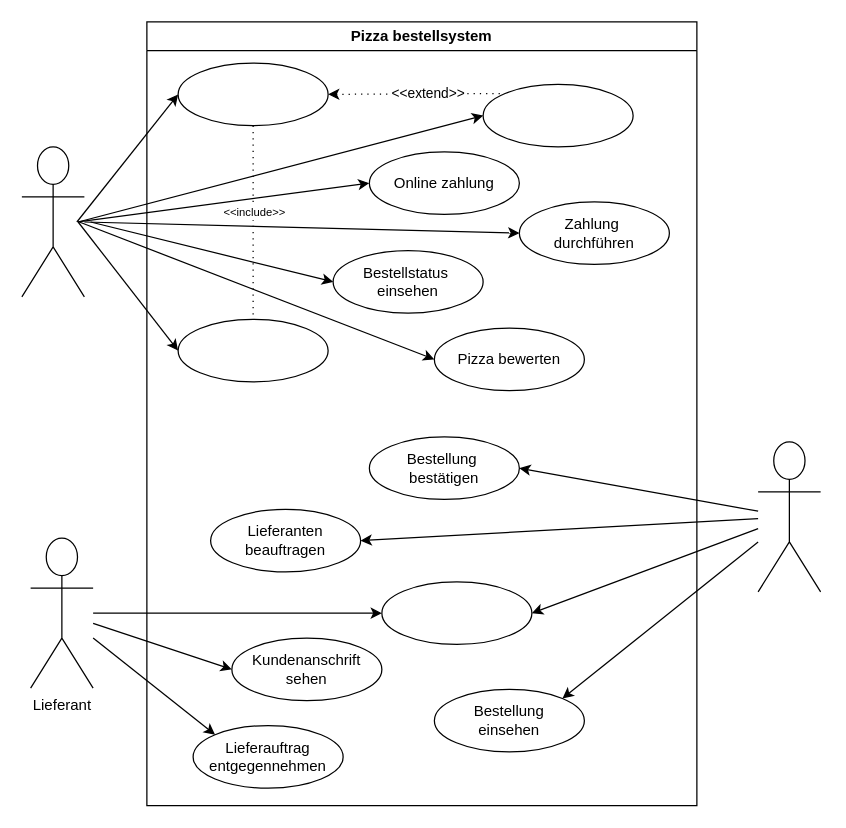
Some shapes in this 846 by 828 pixel diagram are drawn without their labels. Each missing label, with the centre of its shape:
"Bestellstatus aktualisieren" belongs at pixel 456 612.
"Bestellung aufgeben" belongs at pixel 252 94.
"Bestellung stornieren (Abbruch)" belongs at pixel 557 115.
"Kunde" belongs at pixel 52 221.
"Mitarbeiter" belongs at pixel 789 516.
"Pizza auswahl" belongs at pixel 252 350.
